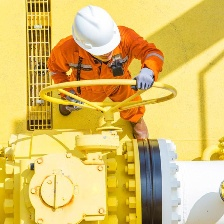helmet: (67, 4, 125, 57)
person: (48, 4, 156, 137)
vest: (52, 37, 156, 140)
